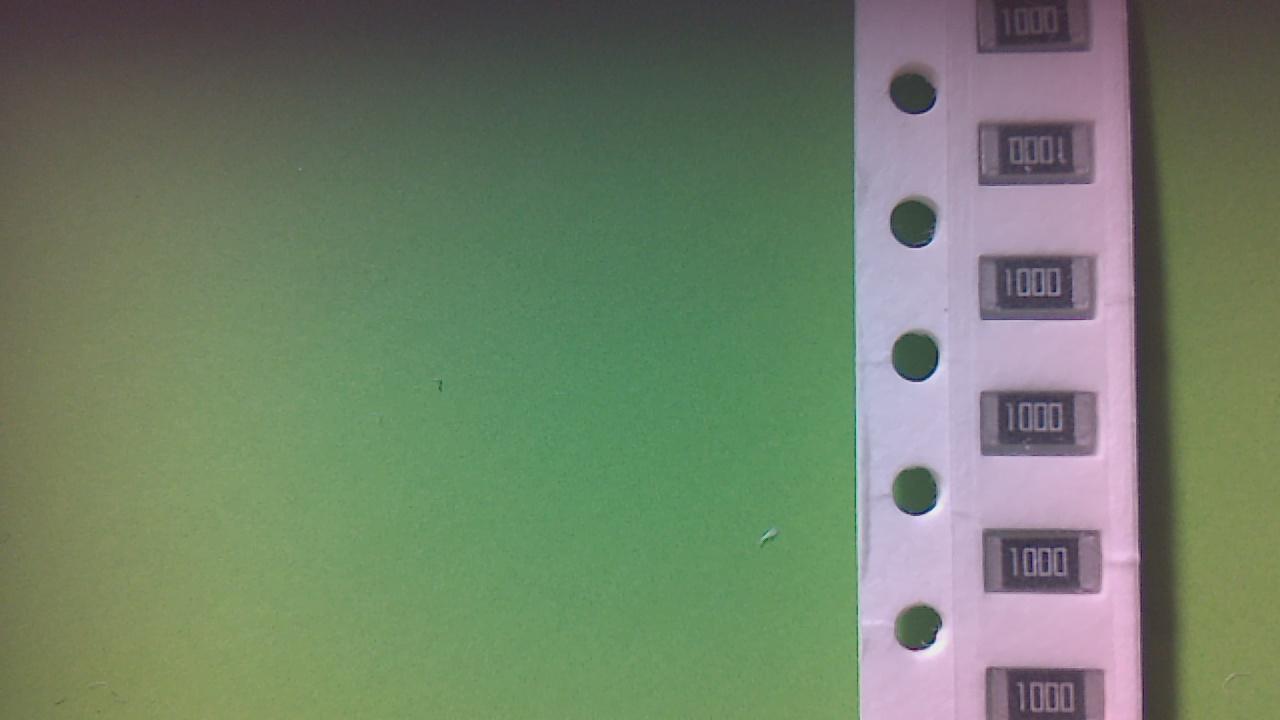Resistor: (984, 127, 1091, 191), (988, 538, 1104, 597), (986, 263, 1092, 322), (989, 396, 1097, 453), (983, 5, 1092, 58), (991, 674, 1107, 720)
